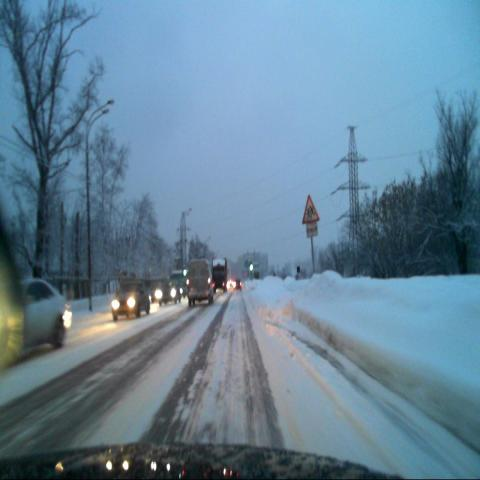1_23: (299, 192, 318, 222)
8_2_1: (304, 222, 320, 239)
